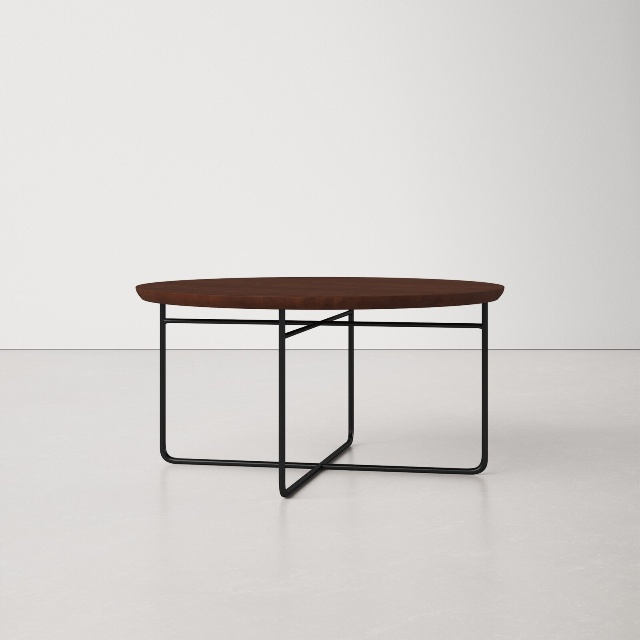obstacle: (136, 277, 504, 497)
